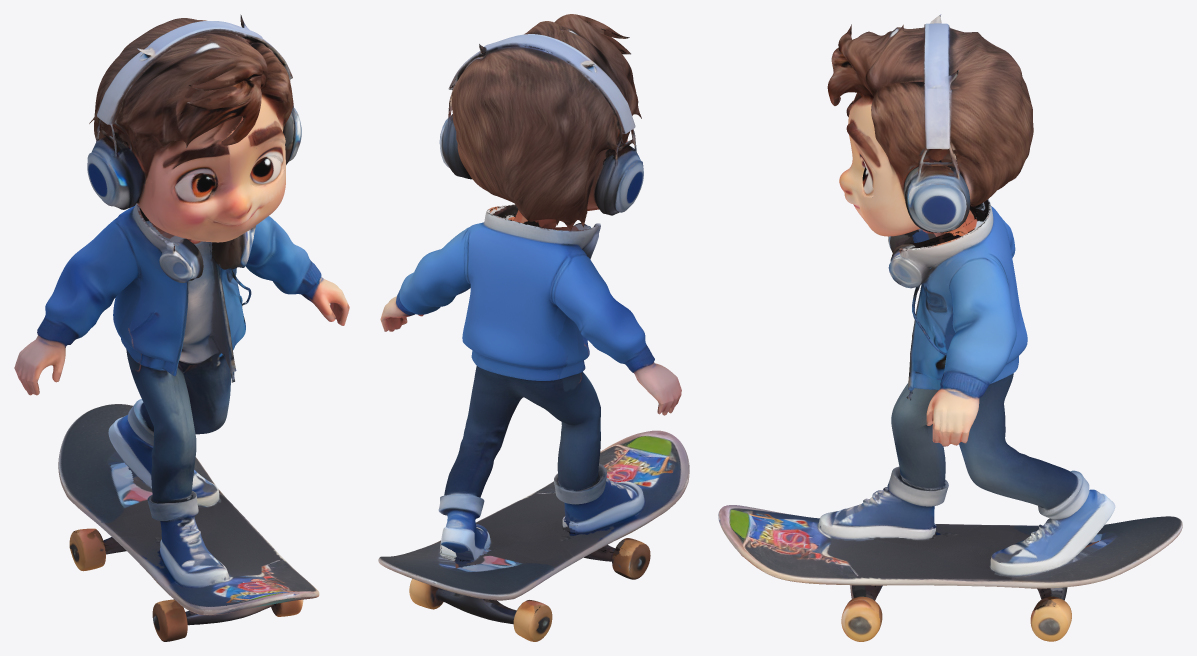
File: player_game.glb
3 renders of one model, left to right at view 1: azimuth 30°, elevation 25°; view 2: azimuth 150°, elevation 25°; view 3: azimuth 270°, elevation 25°, orthographic. The views are drawn at different scales.
Visible parts, largest first — view 1: model; view 2: model; view 3: model.
Boxes of the visible parts, bbox=[...] form: model: bbox=[14, 14, 349, 641]; model: bbox=[378, 14, 689, 641]; model: bbox=[718, 14, 1182, 641].
Bounding box in the file's own units: 1.09 × 1.9 × 1.37.
Materials: 1 (1 with a texture image).
